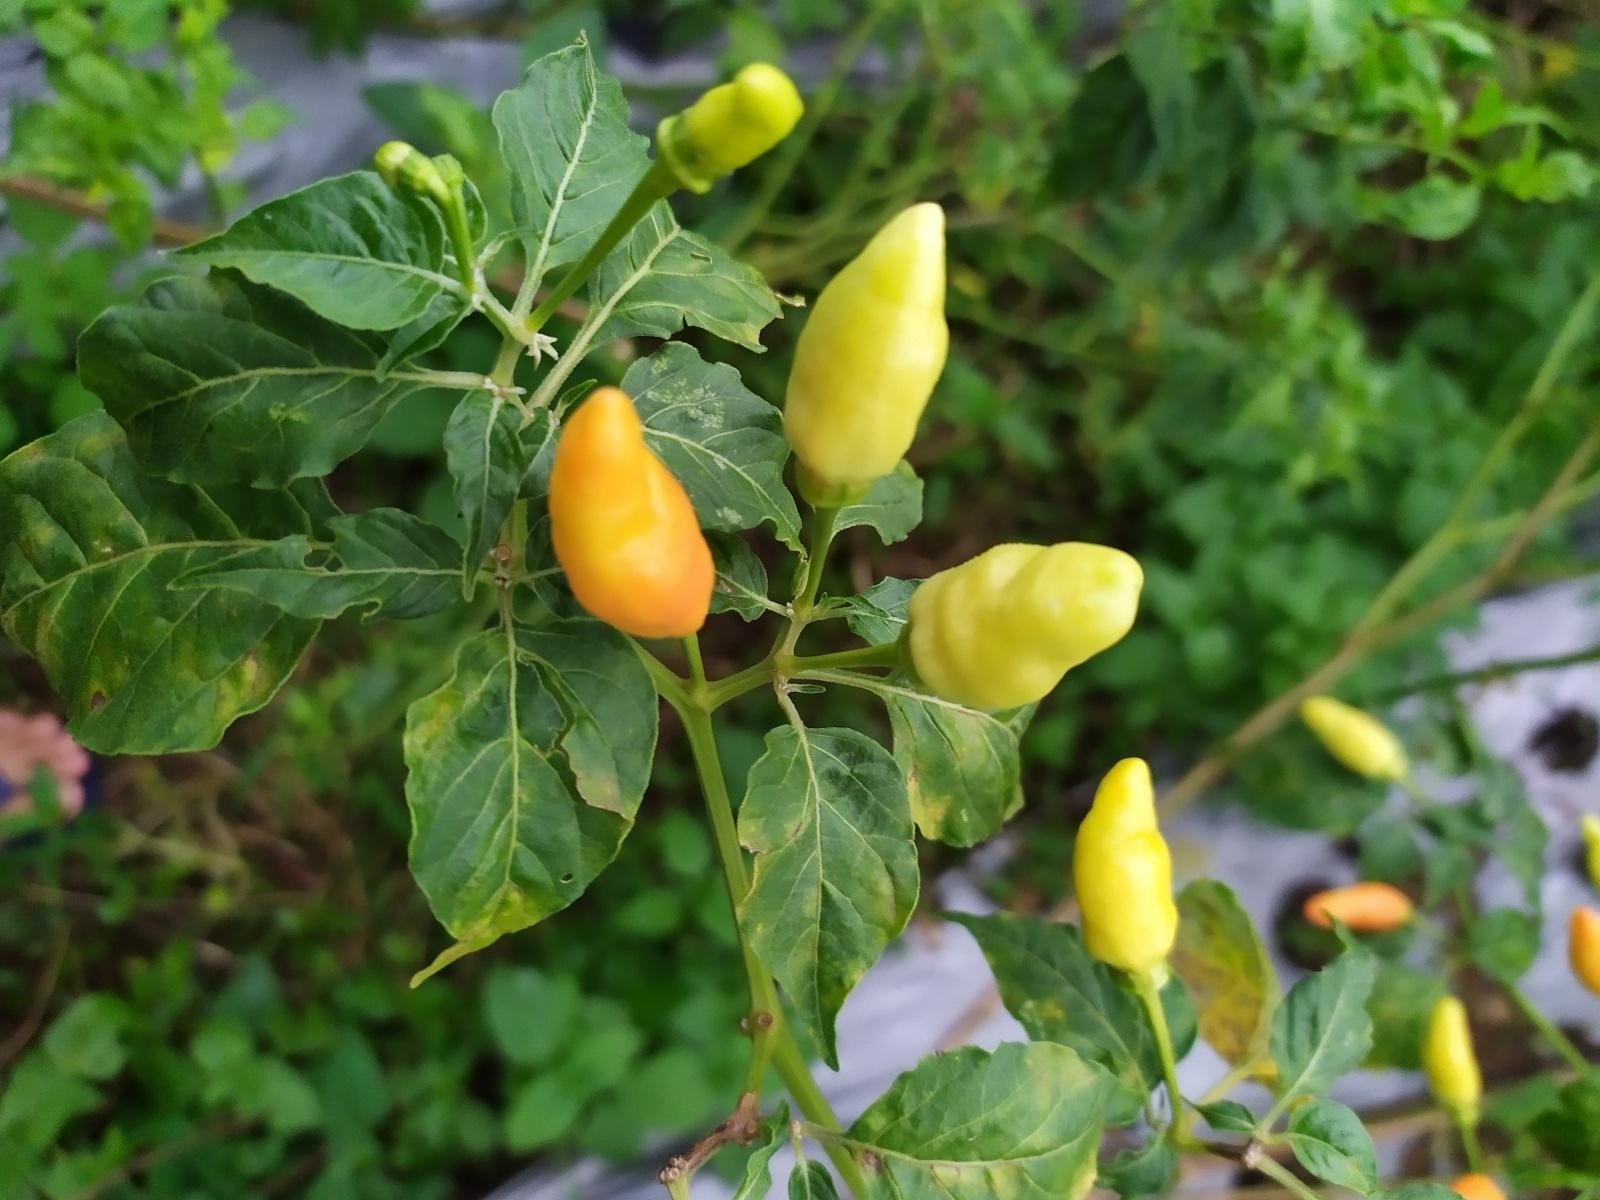cabai_normal: (781, 200, 950, 490), (902, 541, 1146, 712), (549, 388, 717, 638), (1071, 756, 1179, 977), (663, 61, 808, 189), (1299, 692, 1405, 780), (1427, 993, 1484, 1116), (1303, 877, 1414, 932)
